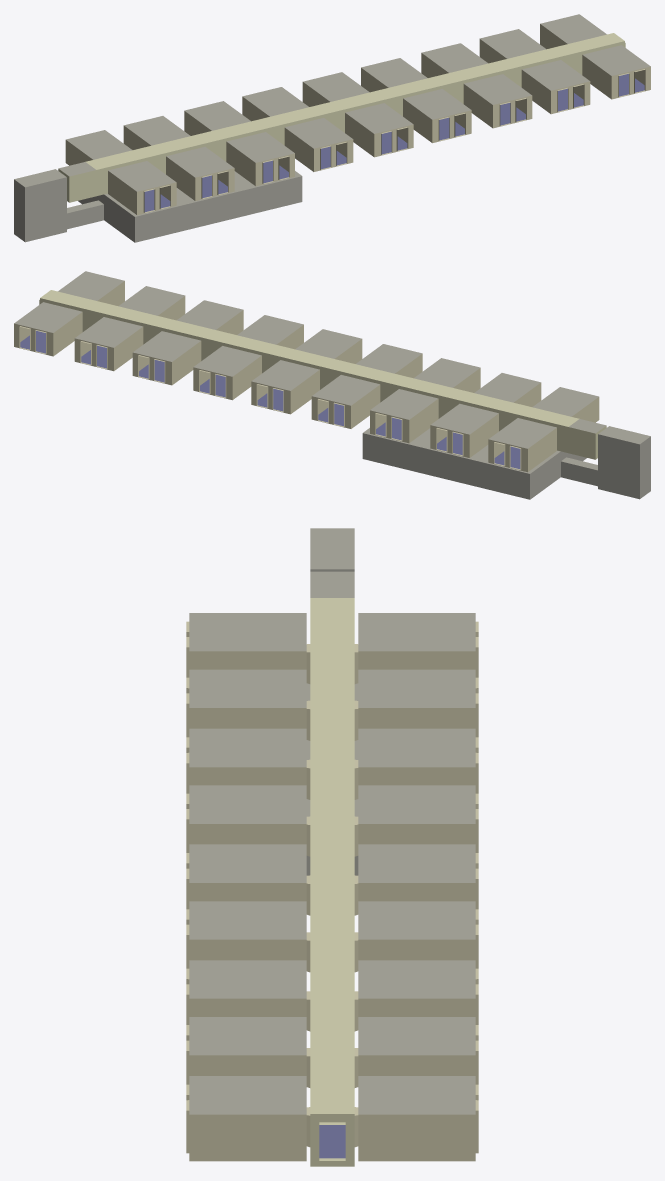
Rendered from complete-office.fbx.
The picture shows the model from 3 angles, top to bottom: view 1: azimuth 30°, elevation 25°; view 2: azimuth 150°, elevation 25°; view 3: azimuth 270°, elevation 25°; orthographic projection. The views are drawn at different scales.
Parts seen in each view (by area): view 1: Cube.001; view 2: Cube.001; view 3: Cube.001.
Boxes of the visible parts, <box> form: Cube.001: <box>14,14,650,242</box>; Cube.001: <box>14,271,650,499</box>; Cube.001: <box>186,528,478,1166</box>.
Bounding box in the file's own units: 12230 × 1065 × 2571.
